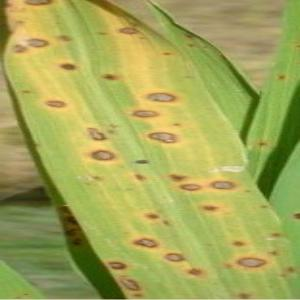Brown_Spot: (232, 248, 271, 275), (79, 144, 124, 167), (140, 127, 184, 150), (79, 121, 112, 149), (139, 87, 181, 109), (125, 104, 163, 124), (37, 94, 73, 114), (126, 233, 163, 252), (155, 247, 190, 266), (115, 273, 146, 294), (23, 33, 52, 54), (52, 58, 83, 77), (94, 68, 124, 87), (110, 23, 144, 39), (81, 171, 107, 190), (196, 199, 223, 217), (207, 178, 238, 193), (56, 225, 91, 238), (225, 235, 251, 252), (176, 180, 206, 194), (102, 258, 131, 272), (252, 136, 275, 152), (11, 40, 30, 59), (128, 155, 154, 168), (165, 171, 190, 184), (274, 70, 292, 88), (264, 244, 284, 260), (17, 84, 37, 100), (62, 212, 83, 227), (66, 235, 87, 250), (52, 31, 76, 44), (183, 264, 205, 278), (129, 170, 150, 184), (139, 209, 161, 222), (253, 201, 274, 213), (141, 61, 162, 73), (155, 49, 177, 60), (266, 229, 286, 241), (20, 1, 60, 7), (180, 71, 198, 84), (234, 289, 255, 300), (284, 262, 298, 278), (93, 27, 111, 39), (181, 29, 197, 42), (289, 207, 300, 225), (57, 203, 74, 214), (221, 261, 236, 273), (169, 120, 185, 130), (186, 40, 198, 53), (157, 218, 174, 227), (240, 186, 255, 196), (130, 290, 145, 300), (277, 271, 289, 282)
